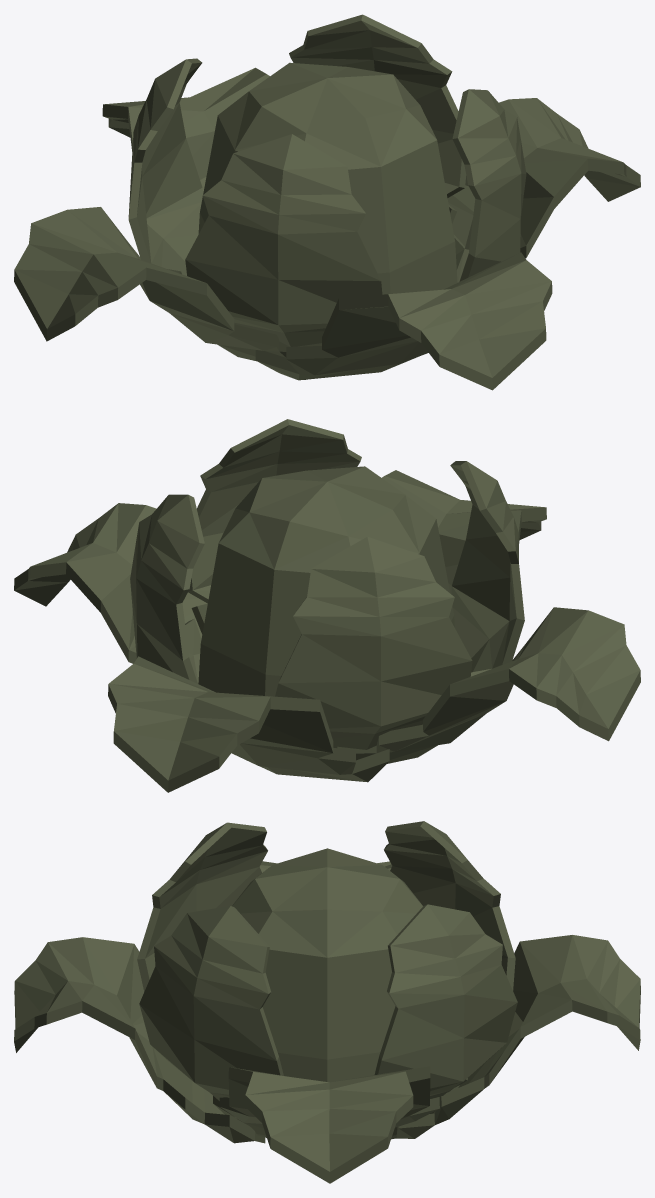
File: crop_cabbage.s4.glb
The picture shows the model from 3 angles, top to bottom: view 1: azimuth 30°, elevation 25°; view 2: azimuth 150°, elevation 25°; view 3: azimuth 270°, elevation 25°; orthographic projection. The views are drawn at different scales.
Size of the model in its own units: 1 by 0.4542 by 1.
